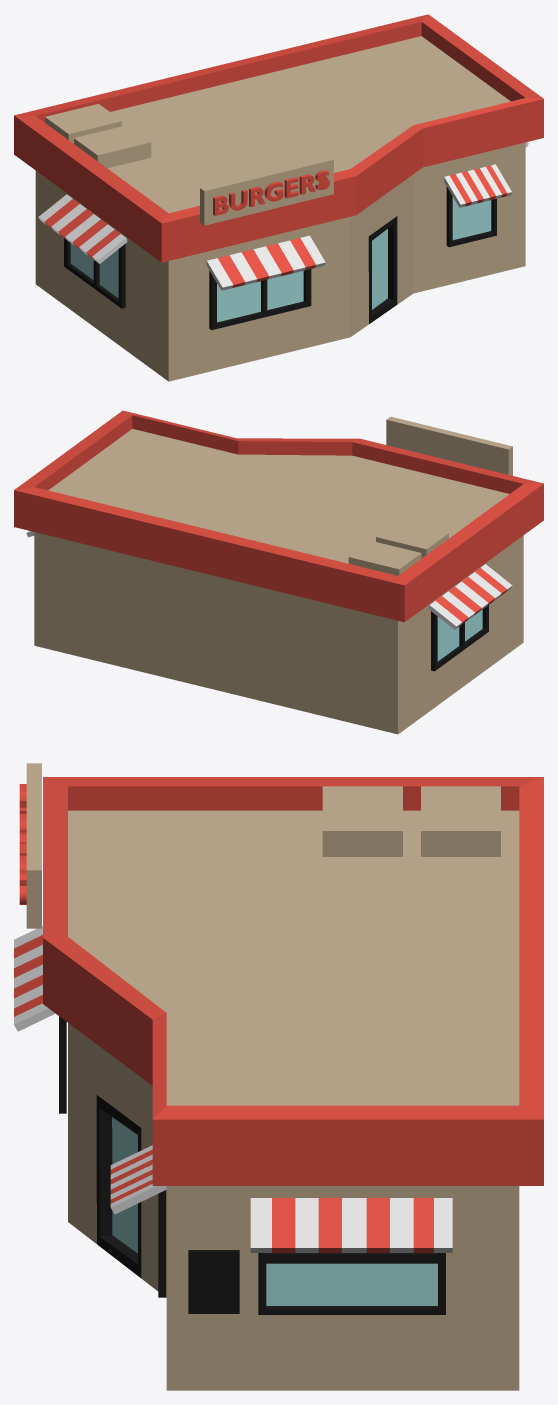
File: Burger shop.fbx
3 renders of one model, top to bottom at view 1: azimuth 30°, elevation 25°; view 2: azimuth 150°, elevation 25°; view 3: azimuth 270°, elevation 25°, orthographic. The views are drawn at different scales.
Visible parts, largest first — view 1: pCube1, pCube2, pCube8, pCube6, pasted__pasted__pCube6, pasted__pCube2, pasted__pCube5, pCube3, pasted__pCube6, typeMesh1, pasted__pasted__pCube5; view 2: pCube1, pCube8, pasted__pasted__pCube6, pasted__pCube2, pasted__pasted__pCube5, pasted__pCube5; view 3: pCube1, pasted__pCube6 (×2), pCube4, pasted__pCube5, pasted__pasted__pCube5, pCube7, pCube6, pCube8, typeMesh1, pCube3, pCube2.
Boxes of the visible parts, x1,y1,x2,y2 form: pCube1: [14, 14, 543, 381]; pCube2: [209, 269, 311, 330]; pCube8: [200, 156, 333, 225]; pCube6: [206, 235, 325, 290]; pasted__pasted__pCube6: [38, 194, 127, 263]; pasted__pCube2: [64, 238, 125, 308]; pasted__pCube5: [74, 125, 151, 168]; pCube3: [446, 186, 496, 247]; pasted__pCube6: [444, 164, 511, 207]; typeMesh1: [213, 170, 329, 215]; pasted__pasted__pCube5: [45, 103, 122, 143]; pCube1: [14, 410, 543, 734]; pCube8: [386, 416, 512, 475]; pasted__pasted__pCube6: [428, 564, 512, 629]; pasted__pCube2: [431, 605, 488, 671]; pasted__pasted__pCube5: [348, 541, 421, 575]; pasted__pCube5: [376, 520, 448, 558]; pCube1: [43, 777, 543, 1390]; pasted__pCube6 (×2): [110, 1145, 452, 1252]; pCube4: [258, 1253, 445, 1314]; pasted__pCube5: [322, 786, 402, 856]; pasted__pasted__pCube5: [421, 786, 500, 856]; pCube7: [188, 1250, 239, 1313]; pCube6: [14, 926, 55, 1031]; pCube8: [26, 763, 41, 928]; typeMesh1: [19, 784, 26, 904]; pCube3: [158, 1190, 165, 1297]; pCube2: [59, 1016, 66, 1113].
Bounding box in the file's own units: 10.16 × 4.23 × 6.2.
